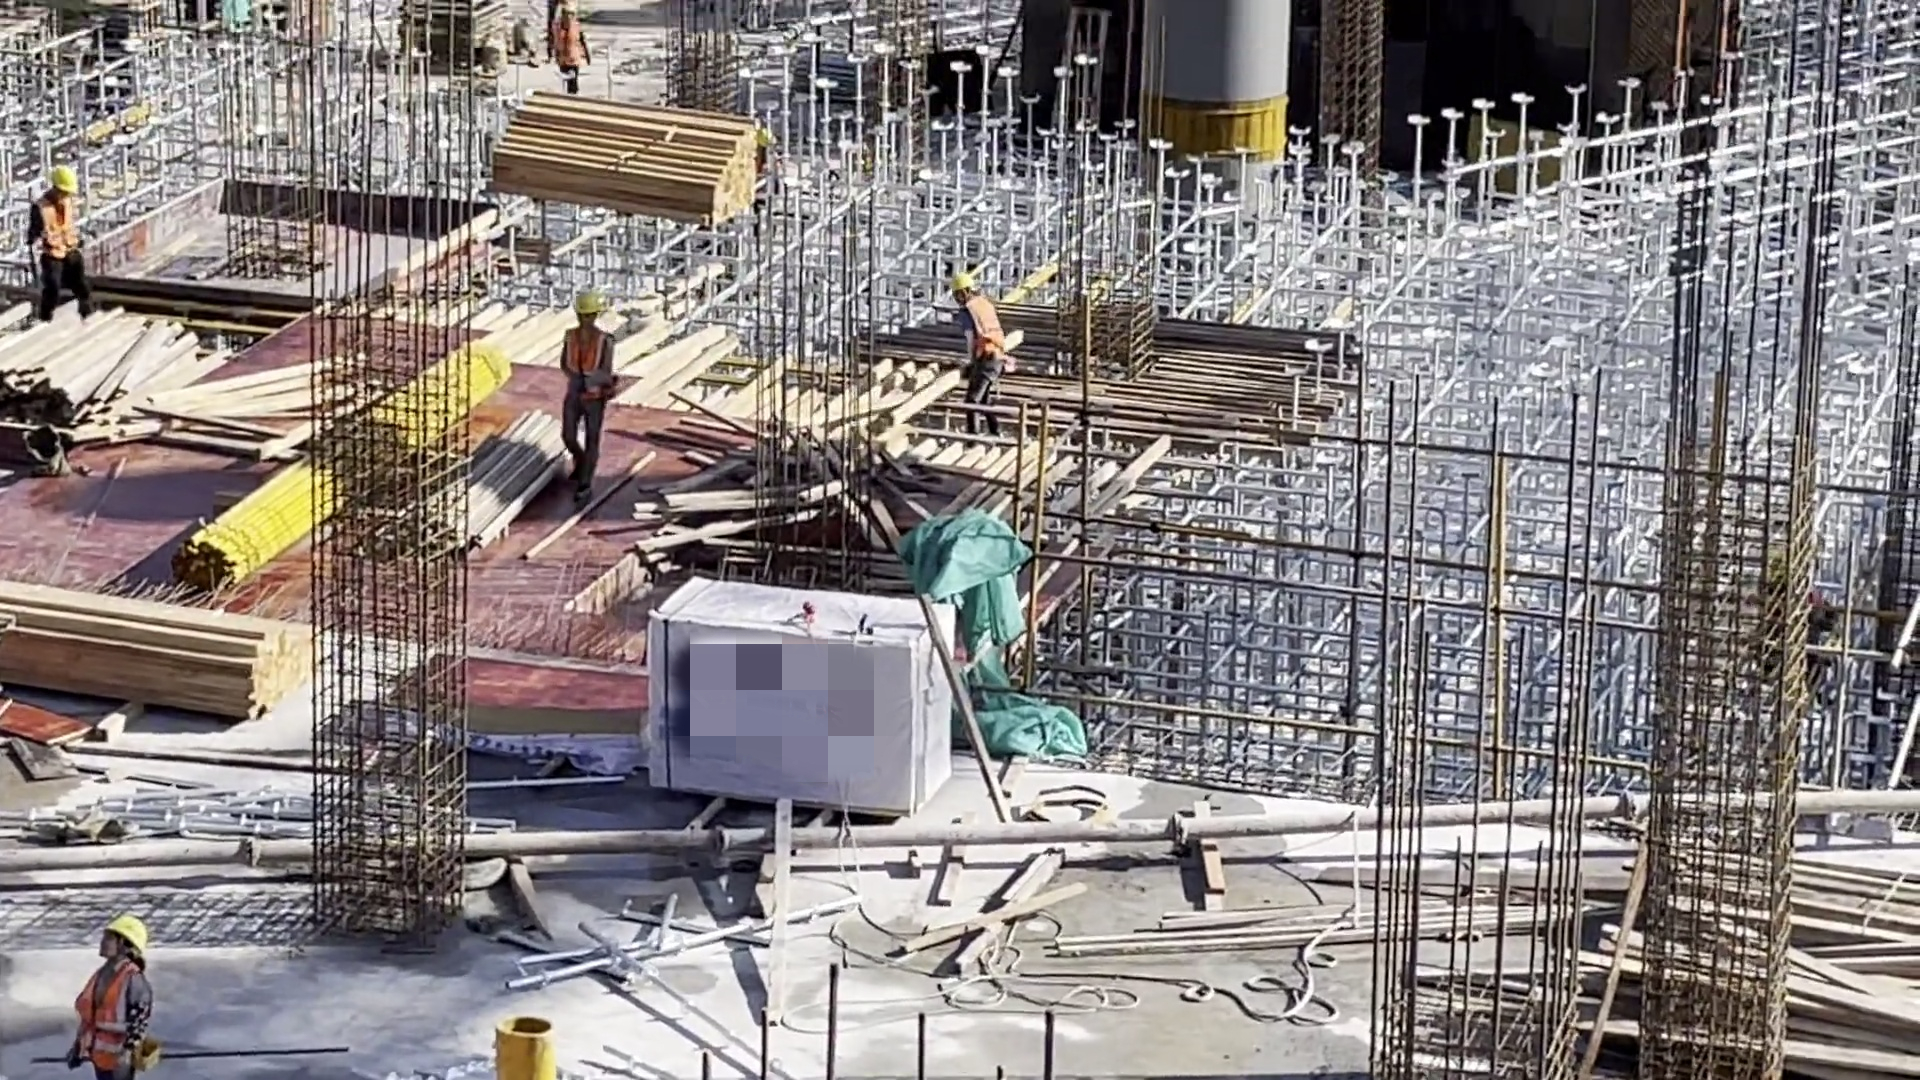helmet: (104, 919, 146, 953), (52, 168, 76, 194), (574, 292, 603, 313), (951, 274, 975, 290)
person: (71, 918, 153, 1080), (561, 295, 613, 495), (948, 272, 1006, 439), (27, 166, 88, 316), (554, 1, 590, 99)
vest: (77, 969, 139, 1061), (29, 197, 86, 262), (566, 330, 611, 407), (967, 291, 1002, 362), (558, 19, 585, 69)
